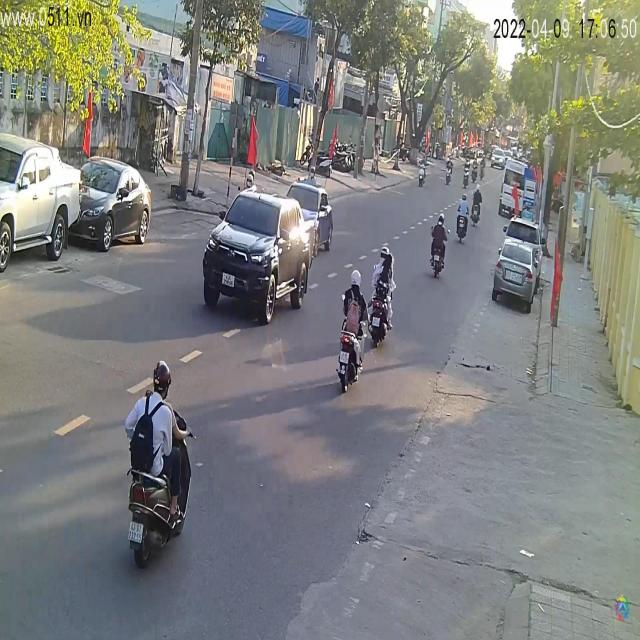car: (203, 184, 323, 323), (1, 131, 83, 277), (72, 158, 155, 253), (493, 235, 545, 314), (284, 181, 336, 255), (491, 150, 508, 169)
motorcycle: (123, 402, 194, 572), (363, 249, 397, 348), (336, 298, 366, 395), (454, 200, 470, 249), (431, 254, 446, 280)
